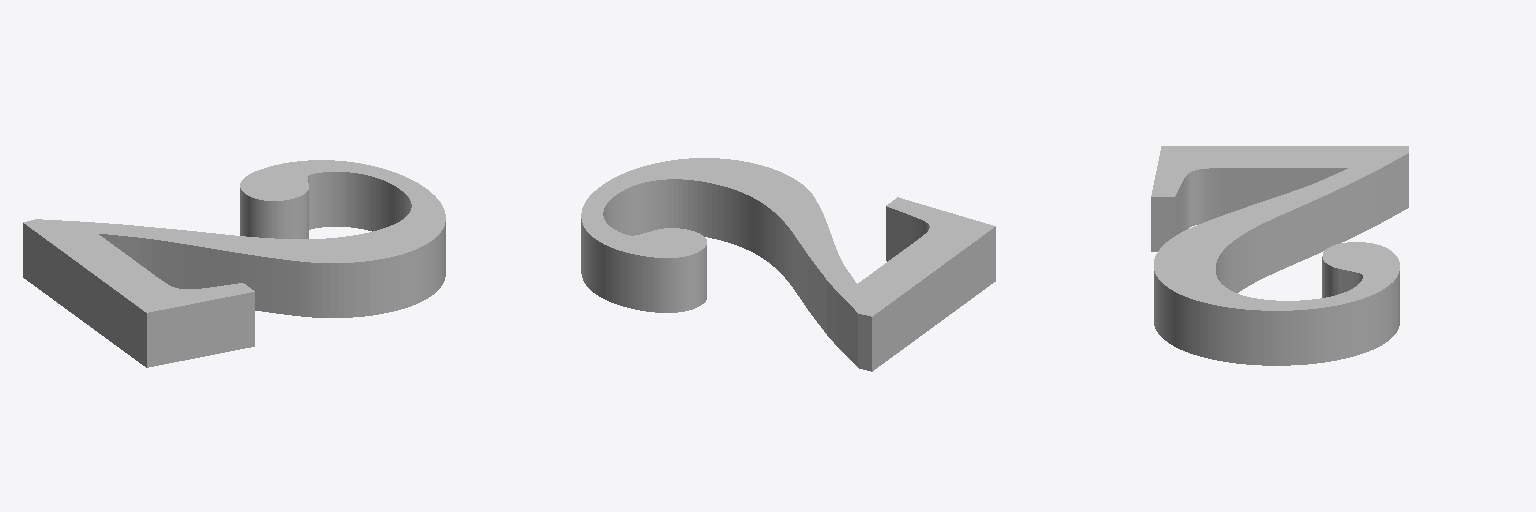
File: number2.obj
3 views of the same model, side by side, from view 1: azimuth 30°, elevation 25°; view 2: azimuth 150°, elevation 25°; view 3: azimuth 270°, elevation 25° (orthographic).
Visible parts, largest first — view 1: Text.024; view 2: Text.024; view 3: Text.024.
Boxes of the visible parts, box(x1,y1,x2,y2) form: Text.024: box(23, 160, 445, 367); Text.024: box(581, 158, 995, 371); Text.024: box(1151, 146, 1408, 365).
Size of the model in its own units: 1.03 by 0.1602 by 0.6814.